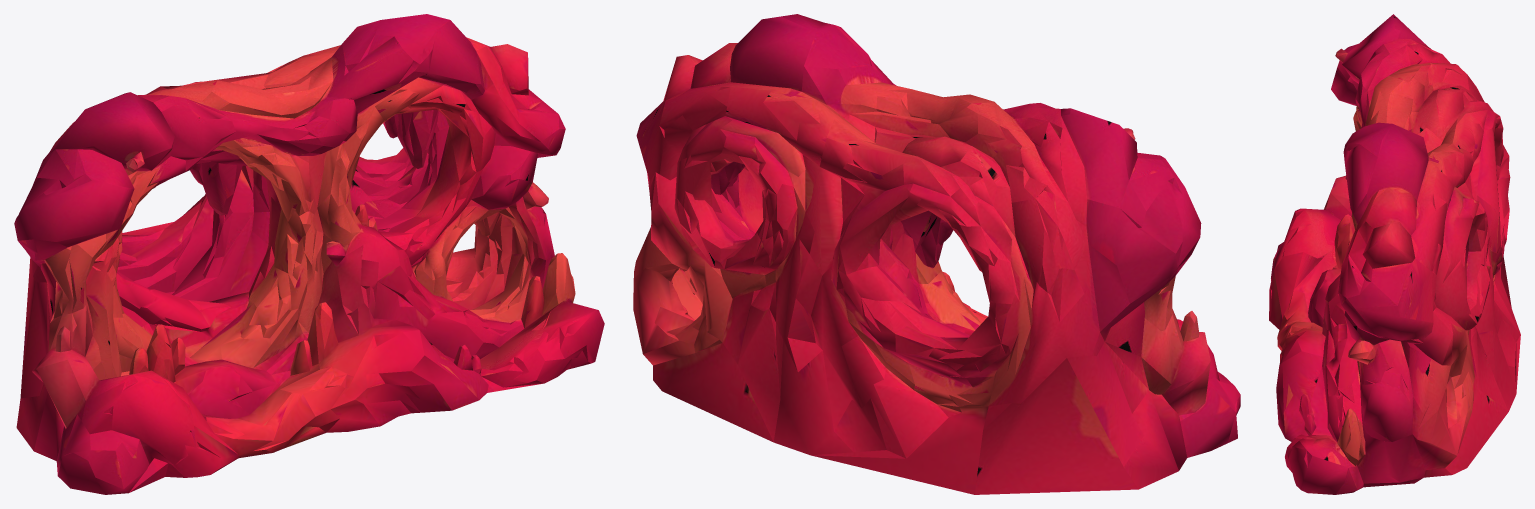
File: dream-cavern.glb
3 views of the same model, side by side, from view 1: azimuth 30°, elevation 25°; view 2: azimuth 150°, elevation 25°; view 3: azimuth 270°, elevation 25° (orthographic). The views are drawn at different scales.
Visible parts, largest first — view 1: output_unwrapped; view 2: output_unwrapped; view 3: output_unwrapped.
Boxes of the visible parts, box(x1,y1,x2,y2) form: output_unwrapped: box(14, 14, 604, 494); output_unwrapped: box(633, 14, 1240, 494); output_unwrapped: box(1269, 14, 1520, 494).
Size of the model in its own units: 1.88 by 1.15 by 0.8735.
1 material, 1 textured.
